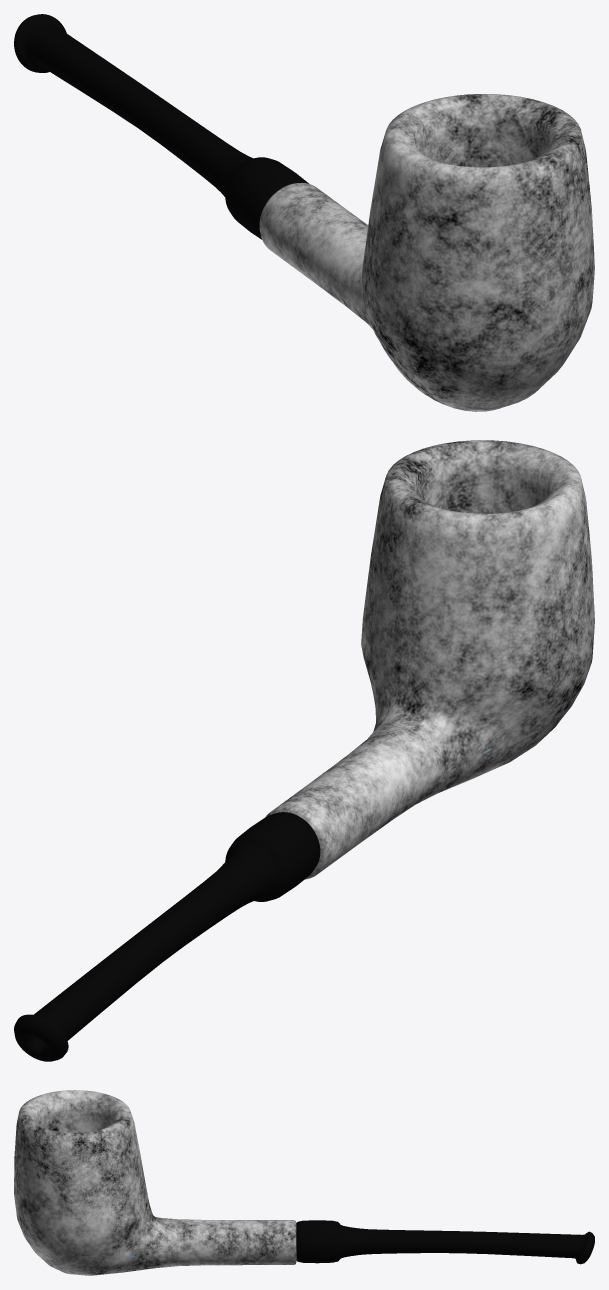
File: pipe.fbx
The picture shows the model from 3 angles, top to bottom: view 1: azimuth 30°, elevation 25°; view 2: azimuth 150°, elevation 25°; view 3: azimuth 270°, elevation 25°; orthographic projection. The views are drawn at different scales.
Parts seen in each view (by area): view 1: pipe; view 2: pipe; view 3: pipe.
Boxes of the visible parts, x1,y1,x2,y2 form: pipe: (14, 14, 594, 411); pipe: (14, 440, 594, 1061); pipe: (14, 1090, 594, 1275).
Size of the model in its own units: 27 by 35.28 by 117.
Materials: 2 (1 with a texture image).
